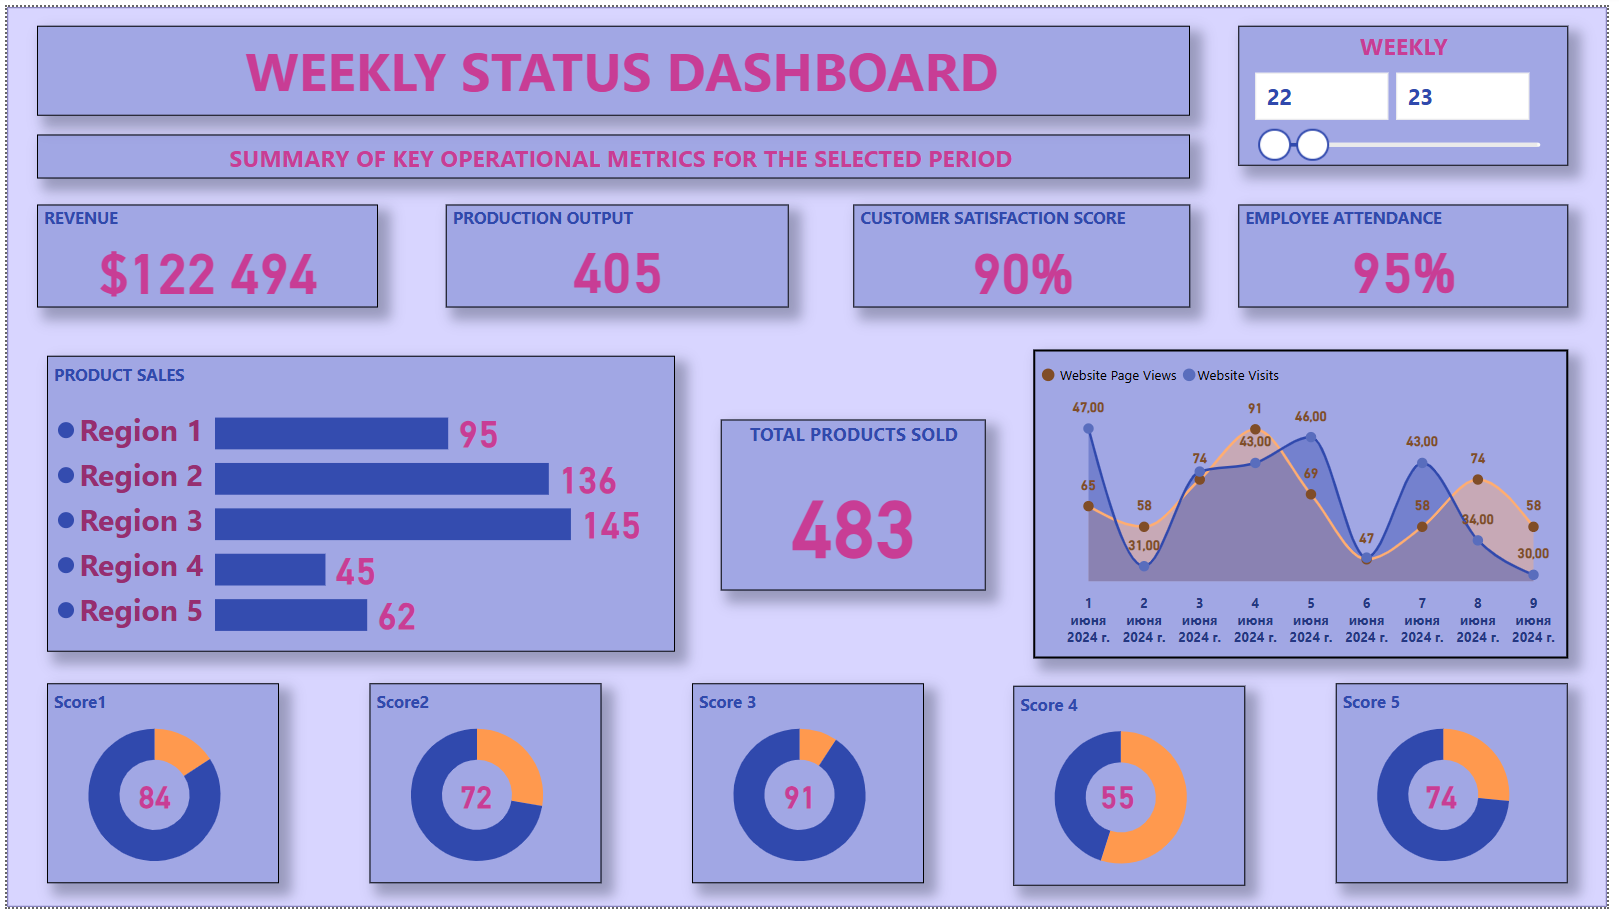

The dashboard page shown, as its layout file describes it:
{"tool":"powerbi","page":{"name":"Страница 1","canvas":[1280,720],"ordinal":0},"visuals":[{"type":"shape","box":[0,0,1280,720],"z":0},{"type":"card","title":"REVENUE","fields":{"Values":["Sum(Лист1.Revenue)"]},"box":[24,158,273,82],"z":1000},{"type":"card","title":"PRODUCTION OUTPUT","fields":{"Values":["Sum(Лист1.Production Output)"]},"box":[351,158,275,82],"z":2000},{"type":"card","title":"CUSTOMER SATISFACTION SCORE","fields":{"Values":["Avg(Лист1.Custumer Satisfaction)"]},"box":[677,158,270,82],"z":3000},{"type":"card","title":"EMPLOYEE ATTENDANCE","fields":{"Values":["Avg(Лист1.Employee Attendance)"]},"box":[985,158,264,82],"z":4000},{"type":"donutChart","title":"Score1","fields":{"Y":["Лист1.Score1_Remaining","Avg(Лист1.Score 1)"]},"box":[32,541,186,160],"z":5000},{"type":"slicer","title":"WEEKLY","fields":{"Values":["Лист1.Неделя"]},"box":[985,15,264,112],"z":6000},{"type":"textbox","box":[24,15,923,72],"z":7000},{"type":"textbox","box":[24,102,923,35],"z":8000},{"type":"clusteredBarChart","title":"PRODUCT SALES","fields":{"Y":["Sum(Лист1.Region 1)","Sum(Лист1.Region 2)","Sum(Лист1.Region 3)","Sum(Лист1.Region 4)","Sum(Лист1.Region 5)"],"Category":["Лист1.RegionLabel"]},"box":[32,279,503,237],"z":9000},{"type":"card","title":"TOTAL PRODUCTS SOLD","fields":{"Values":["Sum(Лист1.Total Sold)"]},"box":[571,330,212,137],"z":10000},{"type":"lineChart","fields":{"Y":["Avg(Лист1.Website Page Views)"],"Category":["Лист1.Date"],"Y2":["Avg(Лист1.Website Visits)"]},"box":[821,274,428,247],"z":11000},{"type":"card","title":"TOTAL PRODUCTS SOLD","fields":{"Values":["Avg(Лист1.Score 1)"]},"box":[76,592,85,80],"z":12000},{"type":"donutChart","title":"Score2","fields":{"Y":["Лист1.Score2_Remaining","Avg(Лист1.Score 2)"]},"box":[289.8,540.6,186,160],"z":13000},{"type":"card","title":"TOTAL PRODUCTS SOLD","fields":{"Values":["Avg(Лист1.Score 2)"]},"box":[333,592,85,80],"z":14000},{"type":"donutChart","title":"Score 3","fields":{"Y":["Лист1.Score3_Remaining","Avg(Лист1.Score 3)"]},"box":[547.5,541,186,160],"z":15000},{"type":"card","title":"TOTAL PRODUCTS SOLD","fields":{"Values":["Avg(Лист1.Score 3)"]},"box":[592,592,85,80],"z":16000},{"type":"donutChart","title":"Score 4","fields":{"Y":["Avg(Лист1.Score 4)","Лист1.Score4_Remaining"]},"box":[805.2,543.4,186,160],"z":17000},{"type":"card","title":"TOTAL PRODUCTS SOLD","fields":{"Values":["Avg(Лист1.Score 4)"]},"box":[846,592,85,80],"z":18000},{"type":"donutChart","title":"Score 5","fields":{"Y":["Лист1.Score5_Remaining","Avg(Лист1.Score 5)"]},"box":[1063,541,186,160],"z":19000},{"type":"card","title":"TOTAL PRODUCTS SOLD","fields":{"Values":["Avg(Лист1.Score 5)"]},"box":[1105,592,85,80],"z":20000}]}

Visuals, with their boxes in screenshot pixels (x1, y1, x2, y2), scaled from the page's 1280x720 canvas onto the 1619x914 screenshot:
shape: {"x1": 0, "y1": 0, "x2": 1618, "y2": 913}
"REVENUE" card: {"x1": 30, "y1": 201, "x2": 376, "y2": 305}
"PRODUCTION OUTPUT" card: {"x1": 444, "y1": 201, "x2": 792, "y2": 305}
"CUSTOMER SATISFACTION SCORE" card: {"x1": 856, "y1": 201, "x2": 1198, "y2": 305}
"EMPLOYEE ATTENDANCE" card: {"x1": 1246, "y1": 201, "x2": 1580, "y2": 305}
"Score1" donutChart: {"x1": 40, "y1": 687, "x2": 276, "y2": 890}
"WEEKLY" slicer: {"x1": 1246, "y1": 19, "x2": 1580, "y2": 161}
textbox: {"x1": 30, "y1": 19, "x2": 1198, "y2": 110}
textbox: {"x1": 30, "y1": 129, "x2": 1198, "y2": 174}
"PRODUCT SALES" clusteredBarChart: {"x1": 40, "y1": 354, "x2": 677, "y2": 655}
"TOTAL PRODUCTS SOLD" card: {"x1": 722, "y1": 419, "x2": 990, "y2": 593}
lineChart - Avg(Лист1.Website Page Views) x Лист1.Date: {"x1": 1038, "y1": 348, "x2": 1580, "y2": 661}
"TOTAL PRODUCTS SOLD" card: {"x1": 96, "y1": 752, "x2": 204, "y2": 853}
"Score2" donutChart: {"x1": 367, "y1": 686, "x2": 602, "y2": 889}
"TOTAL PRODUCTS SOLD" card: {"x1": 421, "y1": 752, "x2": 529, "y2": 853}
"Score 3" donutChart: {"x1": 693, "y1": 687, "x2": 928, "y2": 890}
"TOTAL PRODUCTS SOLD" card: {"x1": 749, "y1": 752, "x2": 856, "y2": 853}
"Score 4" donutChart: {"x1": 1018, "y1": 690, "x2": 1254, "y2": 893}
"TOTAL PRODUCTS SOLD" card: {"x1": 1070, "y1": 752, "x2": 1178, "y2": 853}
"Score 5" donutChart: {"x1": 1345, "y1": 687, "x2": 1580, "y2": 890}
"TOTAL PRODUCTS SOLD" card: {"x1": 1398, "y1": 752, "x2": 1505, "y2": 853}
